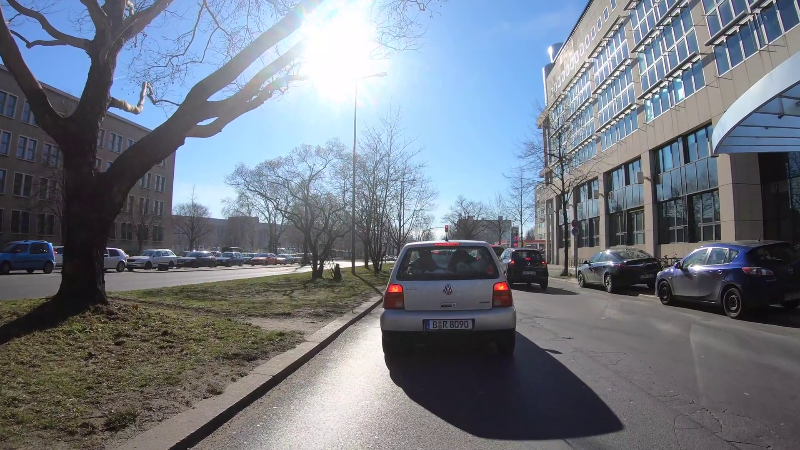Plate: (423, 319, 474, 330), (781, 290, 800, 302), (638, 272, 655, 279), (521, 269, 538, 275)
